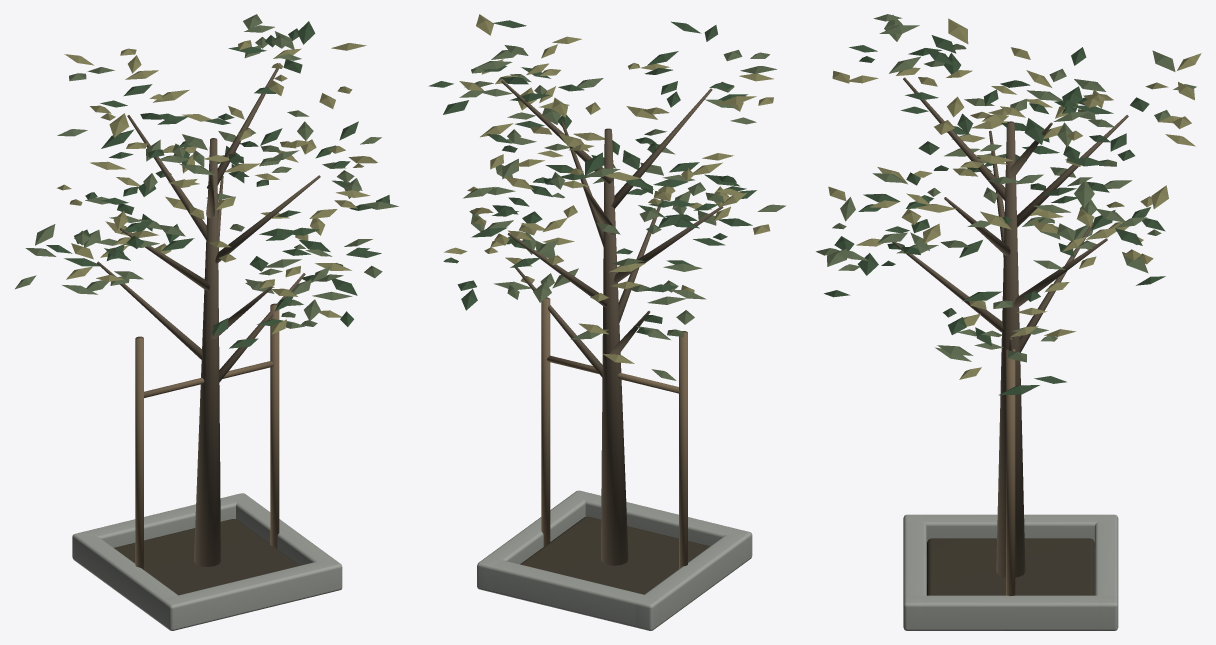
The model's file is sapling.glb.
3 views of the same model, side by side, from view 1: azimuth 30°, elevation 25°; view 2: azimuth 150°, elevation 25°; view 3: azimuth 270°, elevation 25° (orthographic). The views are drawn at different scales.
Parts seen in each view (by area): view 1: Sapling individual leaves, Sapling trunk, Square tree pit soil, Square tree pit border.002, Square tree pit border, Square tree pit border.001, Square tree pit border.003, Sapling support stake.001, Sapling support stake, Sapling fine branch.001, Sapling fine branch.005, Sapling support tie (+4 smaller); view 2: Sapling individual leaves, Sapling trunk, Square tree pit soil, Square tree pit border.003, Square tree pit border, Square tree pit border.002, Square tree pit border.001, Sapling support stake.001, Sapling support stake, Sapling fine branch.007, Sapling support tie, Sapling fine branch (+4 smaller); view 3: Sapling individual leaves, Square tree pit soil, Square tree pit border.001, Sapling trunk, Square tree pit border, Square tree pit border.003, Sapling support stake.001, Square tree pit border.002, Sapling fine branch.006, Sapling fine branch.007, Sapling fine branch.002, Sapling fine branch.003 (+1 smaller).
Boxes of the visible parts, box(x1,y1,x2,y2) form: Sapling individual leaves: box(15, 14, 398, 348); Sapling trunk: box(194, 138, 220, 566); Square tree pit soil: box(114, 519, 299, 595); Square tree pit border.002: box(162, 558, 340, 630); Square tree pit border: box(72, 533, 186, 630); Square tree pit border.001: box(229, 493, 342, 591); Square tree pit border.003: box(72, 493, 251, 564); Sapling support stake.001: box(270, 303, 279, 548); Sapling support stake: box(135, 336, 143, 569); Sapling fine branch.001: box(97, 261, 202, 359); Sapling fine branch.005: box(215, 175, 320, 263); Sapling support tie: box(144, 361, 273, 397); Sapling individual leaves: box(428, 14, 786, 380); Sapling trunk: box(601, 128, 628, 565); Square tree pit soil: box(520, 516, 709, 594); Square tree pit border.003: box(479, 557, 661, 630); Square tree pit border: box(635, 531, 751, 630); Square tree pit border.002: box(575, 490, 752, 563); Square tree pit border.001: box(477, 490, 591, 590); Sapling support stake.001: box(541, 297, 550, 546); Sapling support stake: box(679, 331, 687, 568); Sapling fine branch.007: box(611, 88, 712, 208); Sapling support tie: box(546, 355, 679, 393); Sapling fine branch: box(514, 267, 602, 377); Sapling individual leaves: box(816, 14, 1201, 395); Square tree pit soil: box(927, 538, 1094, 595); Square tree pit border.001: box(903, 595, 1118, 630); Sapling trunk: box(996, 121, 1025, 577); Square tree pit border: box(903, 514, 1118, 541); Square tree pit border.003: box(1094, 514, 1118, 630); Sapling support stake.001: box(1006, 348, 1015, 595); Square tree pit border.002: box(903, 514, 926, 630); Sapling fine branch.006: box(1017, 115, 1128, 227); Sapling fine branch.007: box(903, 77, 1005, 200); Sapling fine branch.002: box(892, 242, 1003, 332); Sapling fine branch.003: box(1014, 238, 1107, 308).
Bounding box in the file's own units: 1.91 × 3.17 × 1.98.
